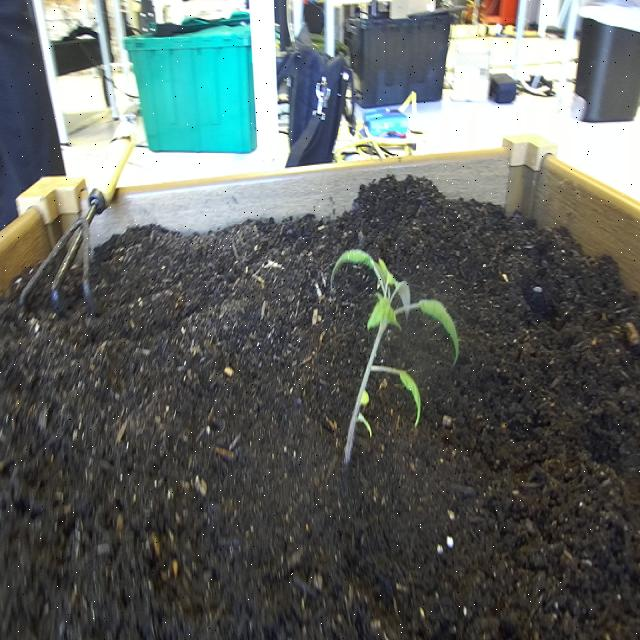Healthy: (324, 239, 466, 474)
